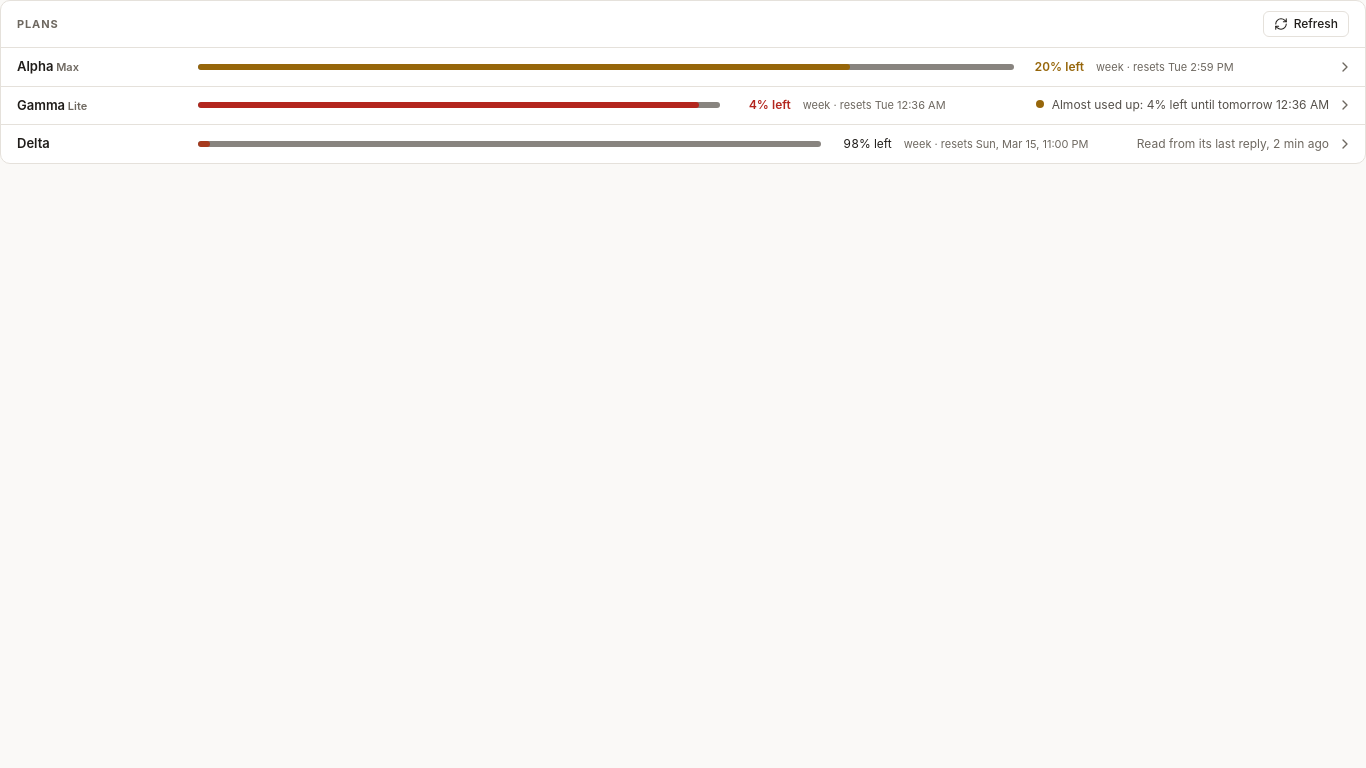
Plans rows open the Plan detail › closes from the close button and from the backdrop
Step 1. Click the button "Alpha Max" → [48, 67], box x1=17 y1=57 x2=79 y2=76
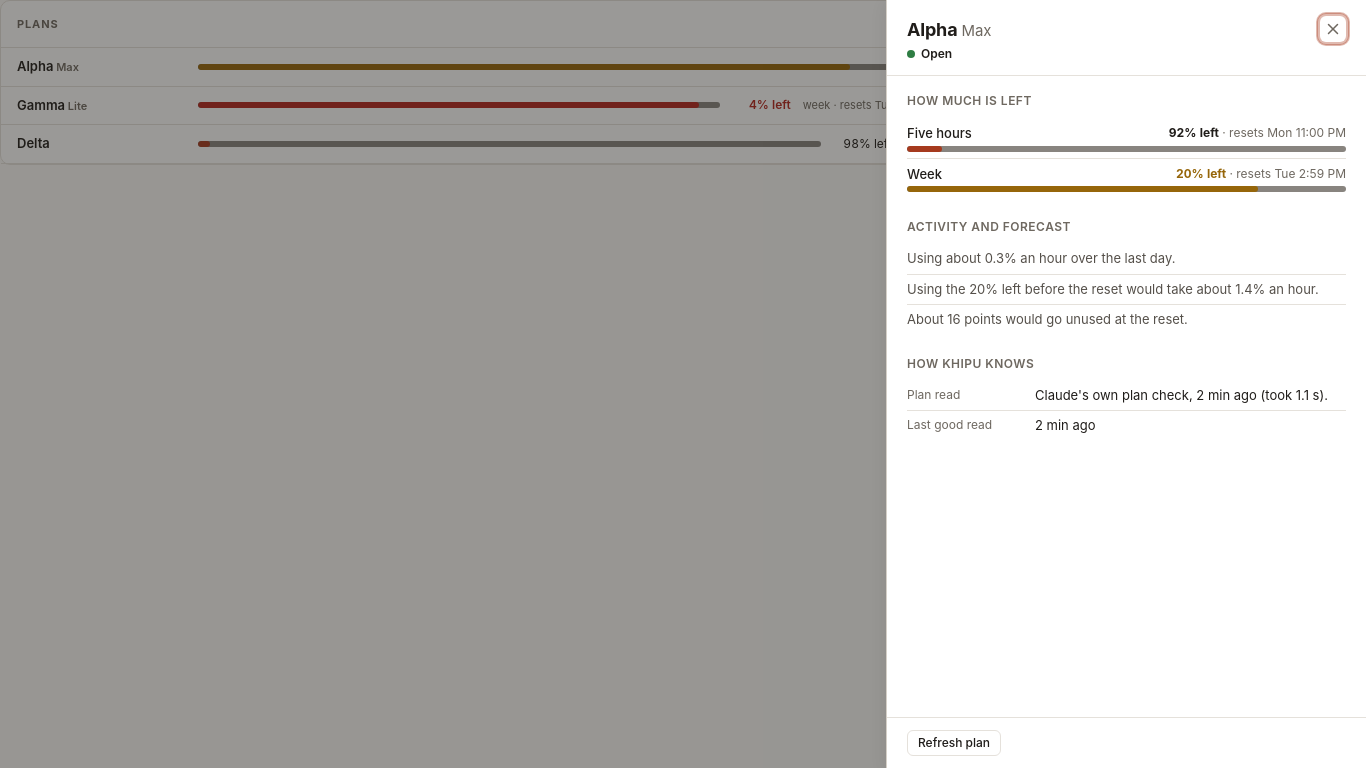
Step 2. Click the button named "Close details" → [1333, 29], box x1=1320 y1=16 x2=1346 y2=42
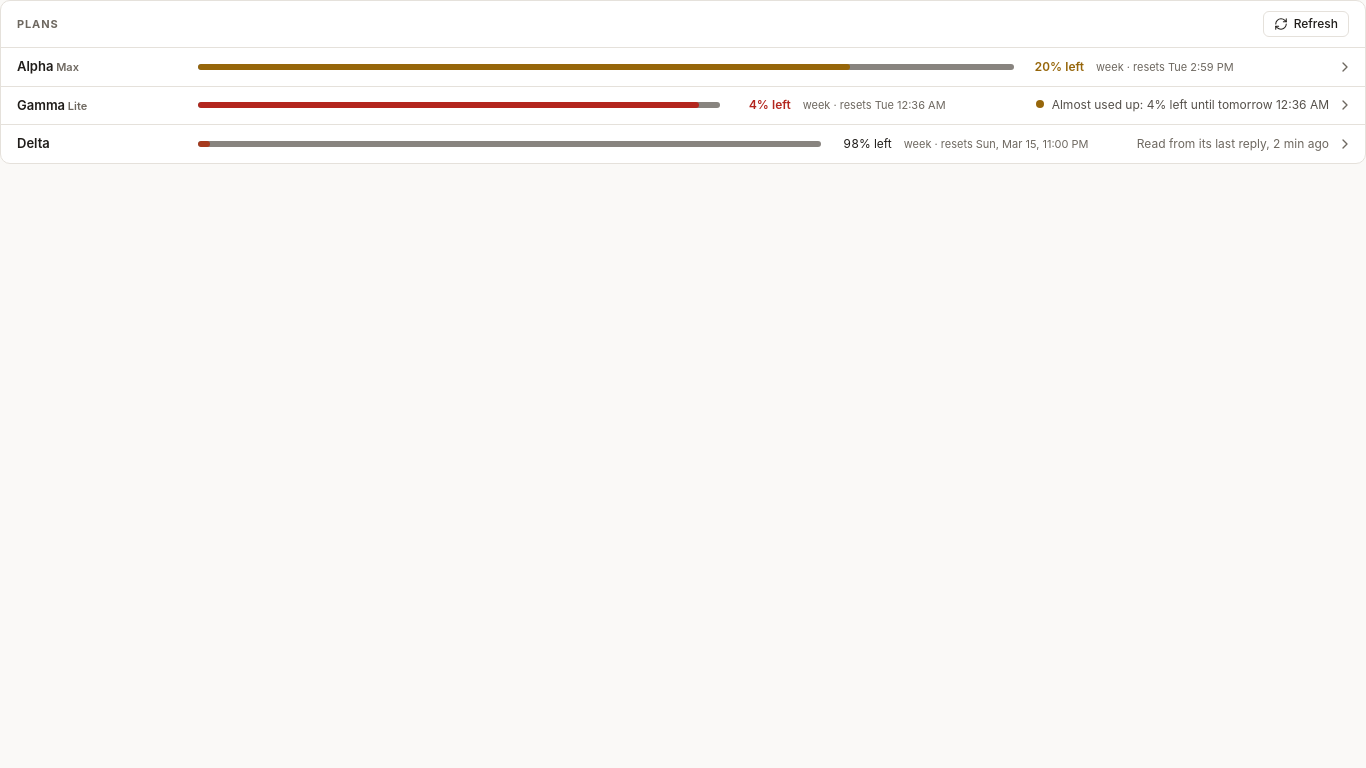
Check: the dialog is gone
Step 3. Click the button "Alpha Max" → [48, 67], box x1=17 y1=57 x2=79 y2=76
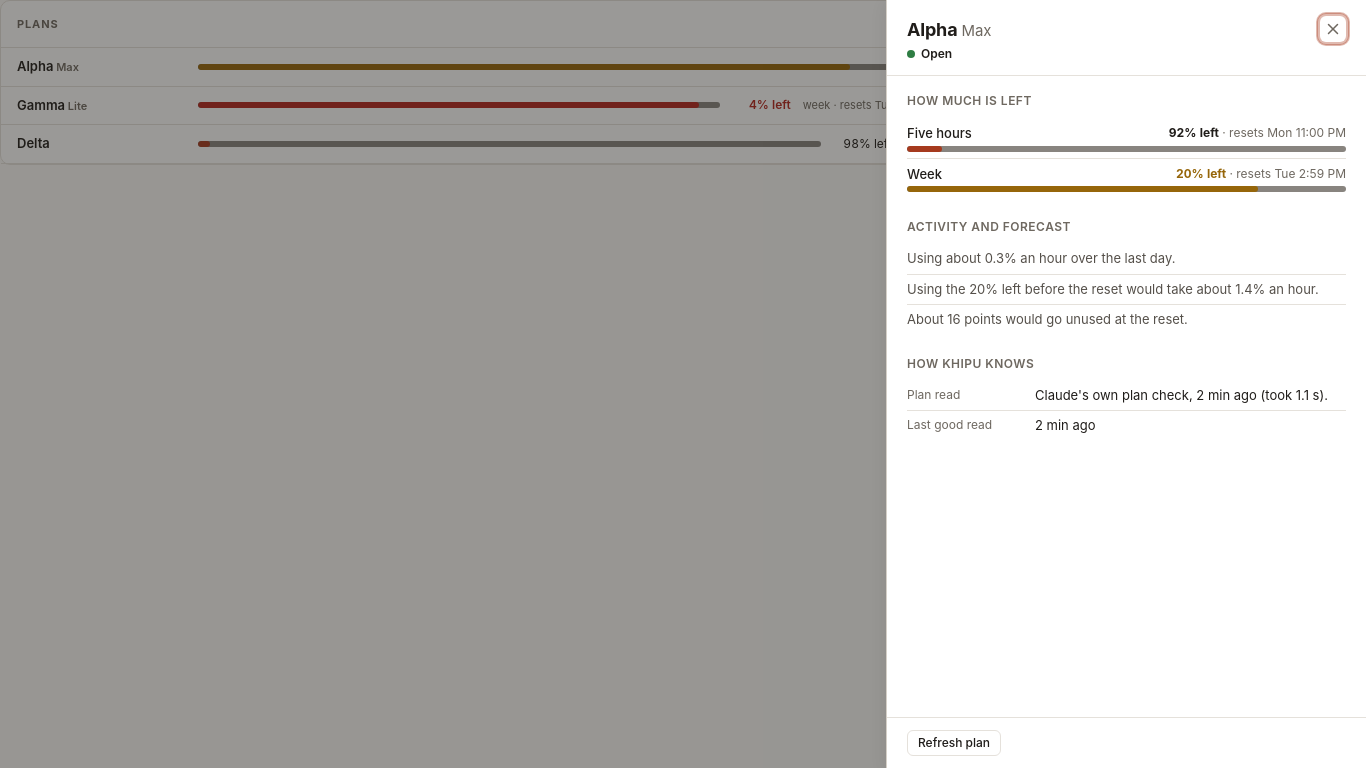
Step 4. Click the dialog → [1126, 384], box x1=886 y1=0 x2=1365 y2=767
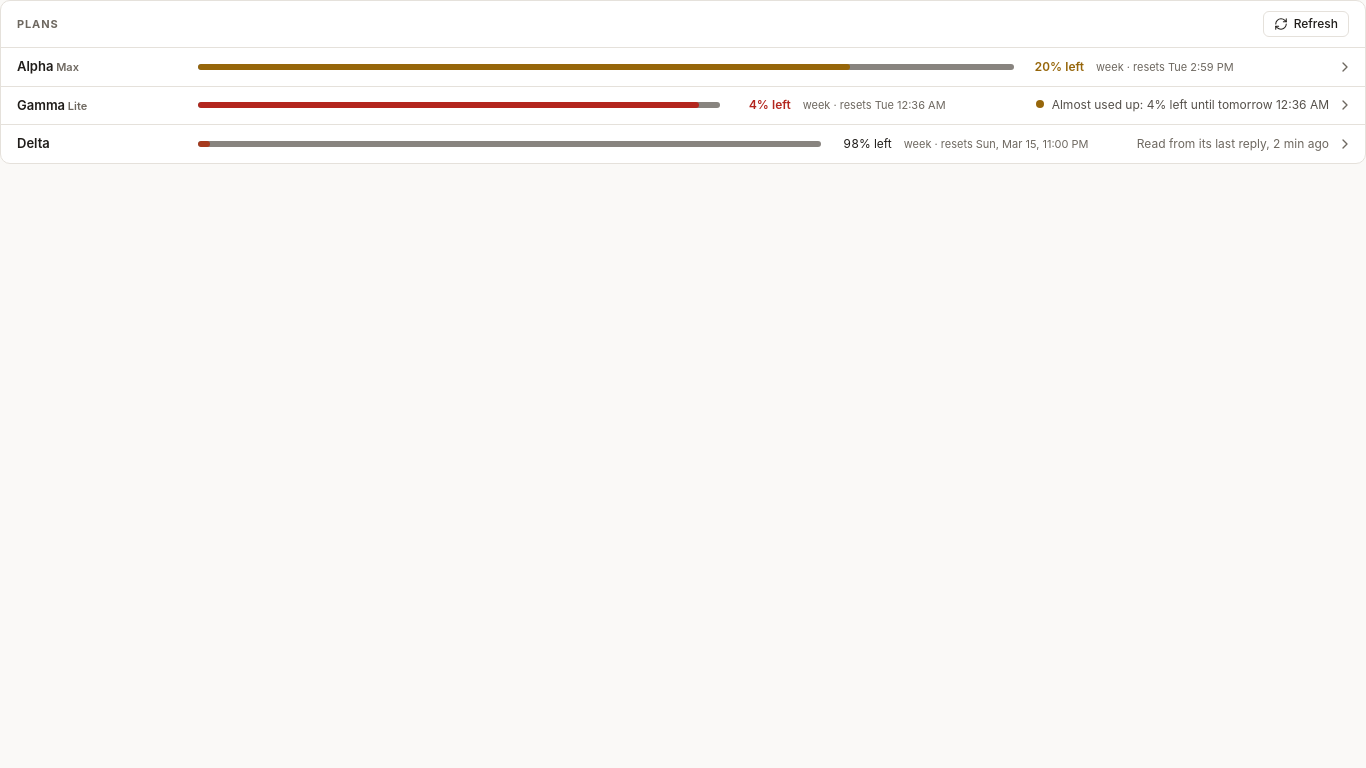
Check: the dialog is gone
